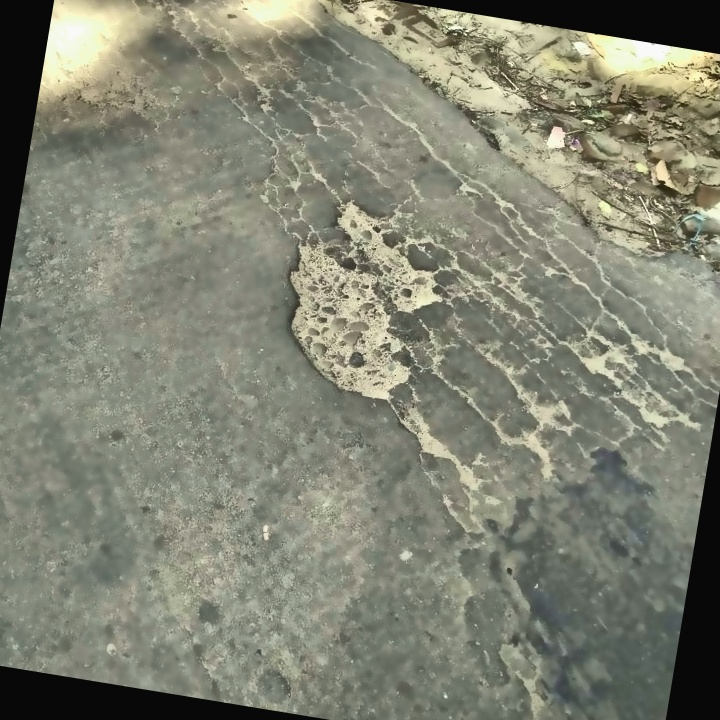pothole: (263, 189, 461, 410)
